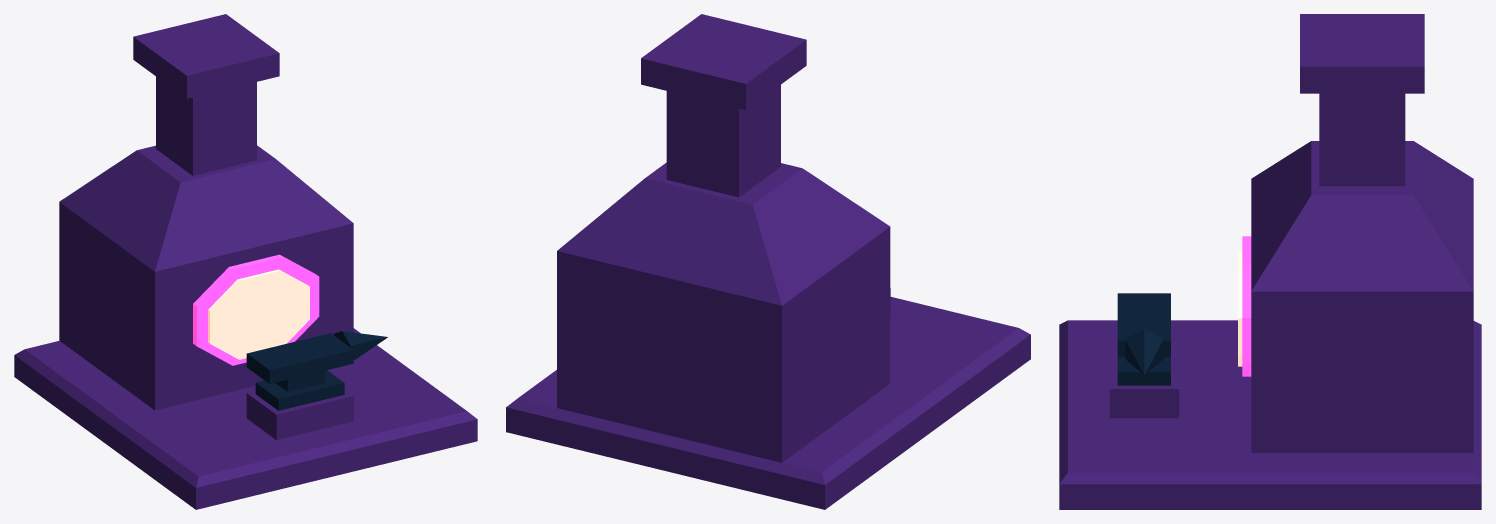
Rendered from forge.glb.
The picture shows the model from 3 angles, left to right: view 1: azimuth 30°, elevation 25°; view 2: azimuth 150°, elevation 25°; view 3: azimuth 270°, elevation 25°; orthographic projection. The views are drawn at different scales.
Visible parts, largest first — view 1: Masonry, Fire, Anvil, Rim; view 2: Masonry; view 3: Masonry, Anvil, Rim, Fire.
Boxes of the visible parts, bbox=[...] form: Masonry: bbox=[14, 14, 477, 509]; Fire: bbox=[208, 269, 309, 359]; Anvil: bbox=[246, 331, 387, 410]; Rim: bbox=[193, 254, 319, 365]; Masonry: bbox=[506, 14, 1030, 509]; Masonry: bbox=[1059, 14, 1481, 509]; Anvil: bbox=[1117, 293, 1170, 385]; Rim: bbox=[1242, 236, 1251, 376]; Fire: bbox=[1238, 251, 1242, 366].
Size of the model in its own units: 2.55 by 2.9 by 2.85.
